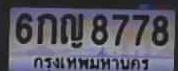6: (15, 12, 31, 43)
7: (112, 13, 128, 45), (132, 14, 148, 45)
8: (151, 14, 167, 45), (91, 13, 107, 44)
A01: (36, 12, 56, 43)
A13: (60, 12, 84, 50)
BKK: (31, 54, 152, 71)
